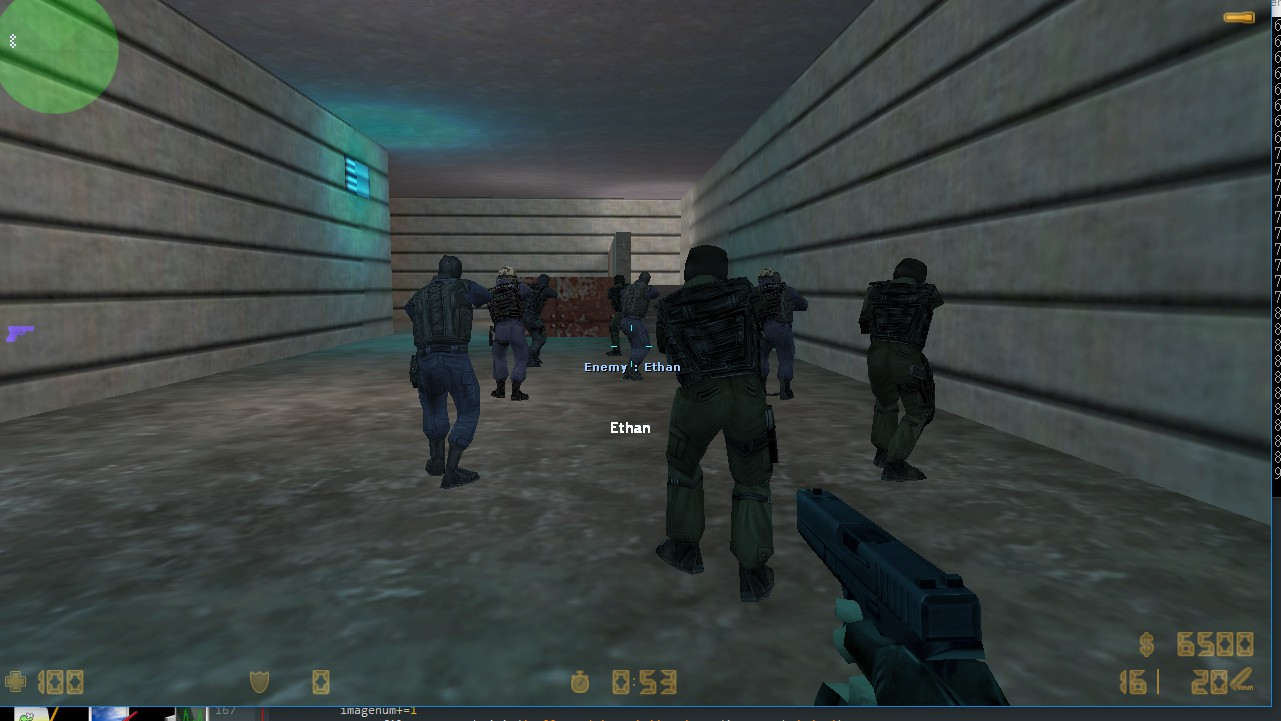person: (658, 239, 805, 600), (856, 247, 951, 493), (399, 245, 488, 500), (753, 267, 815, 395), (485, 263, 534, 402), (619, 268, 659, 373), (526, 272, 556, 368)
